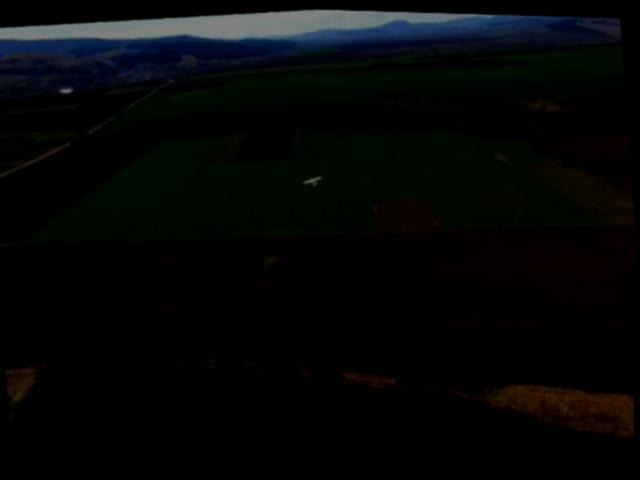uav: (299, 163, 327, 193)
